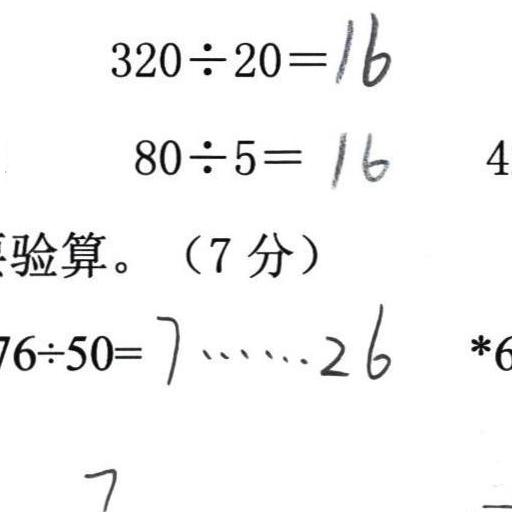ans: (151, 303, 391, 386), (330, 7, 391, 88), (324, 124, 388, 188)
